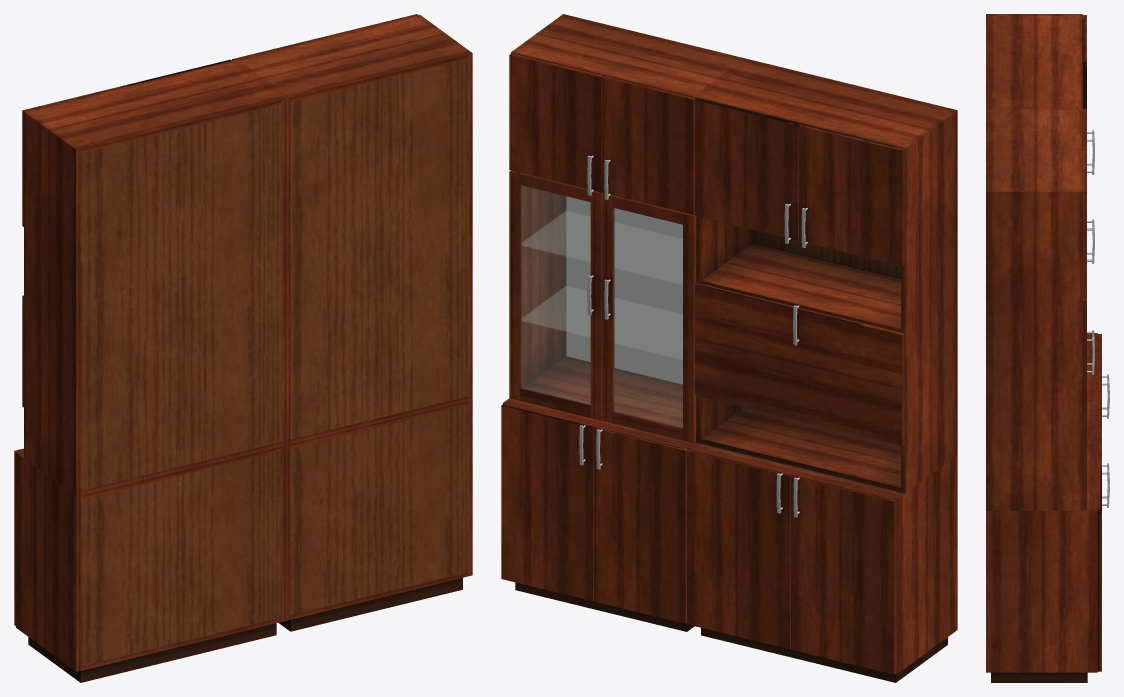
The model's file is stenka_glass_lod1_web.glb.
3 views of the same model, side by side, from view 1: azimuth 30°, elevation 25°; view 2: azimuth 150°, elevation 25°; view 3: azimuth 270°, elevation 25° (orthographic). The views are drawn at different scales.
Visible parts, largest first — view 1: StenkaGlass_Body; view 2: StenkaGlass_Body, Flap_2U1_Mesh, Door_2L0_R_Mesh, Door_2L0_L_Mesh, Door_1L0_R_Mesh, Door_1L0_L_Mesh, Mirror_1U0, Glass_Door_1U0_R, Glass_Door_1U0_L, Door_2U3_R_Mesh, Door_2U3_L_Mesh, Door_1U1_R_Mesh (+5 smaller); view 3: StenkaGlass_Body, Door_1U0_L_Mesh, Door_1L0_L_Mesh, Door_1U1_L_Mesh, Door_2U3_L_Mesh, Door_2U3_R_Mesh.
Boxes of the visible parts, x1,y1,x2,y2 form: StenkaGlass_Body: [16, 15, 472, 682]; StenkaGlass_Body: [503, 14, 957, 682]; Flap_2U1_Mesh: [695, 283, 904, 445]; Door_2L0_R_Mesh: [791, 476, 896, 674]; Door_2L0_L_Mesh: [687, 449, 790, 649]; Door_1L0_R_Mesh: [593, 427, 687, 623]; Door_1L0_L_Mesh: [501, 404, 593, 601]; Mirror_1U0: [566, 196, 682, 384]; Glass_Door_1U0_R: [613, 208, 682, 427]; Glass_Door_1U0_L: [521, 185, 590, 405]; Door_2U3_R_Mesh: [799, 124, 904, 265]; Door_2U3_L_Mesh: [695, 98, 800, 240]; Door_1U1_R_Mesh: [601, 75, 695, 214]; StenkaGlass_Body: [986, 14, 1100, 682]; Door_1U0_L_Mesh: [1082, 299, 1086, 509]; Door_1L0_L_Mesh: [1097, 470, 1101, 671]; Door_1U1_L_Mesh: [1082, 151, 1086, 298]; Door_2U3_L_Mesh: [1082, 62, 1086, 109]; Door_2U3_R_Mesh: [1082, 15, 1086, 61].
Size of the model in its own units: 1.7 by 2.2 by 0.4999.
4 materials, 2 textured.
